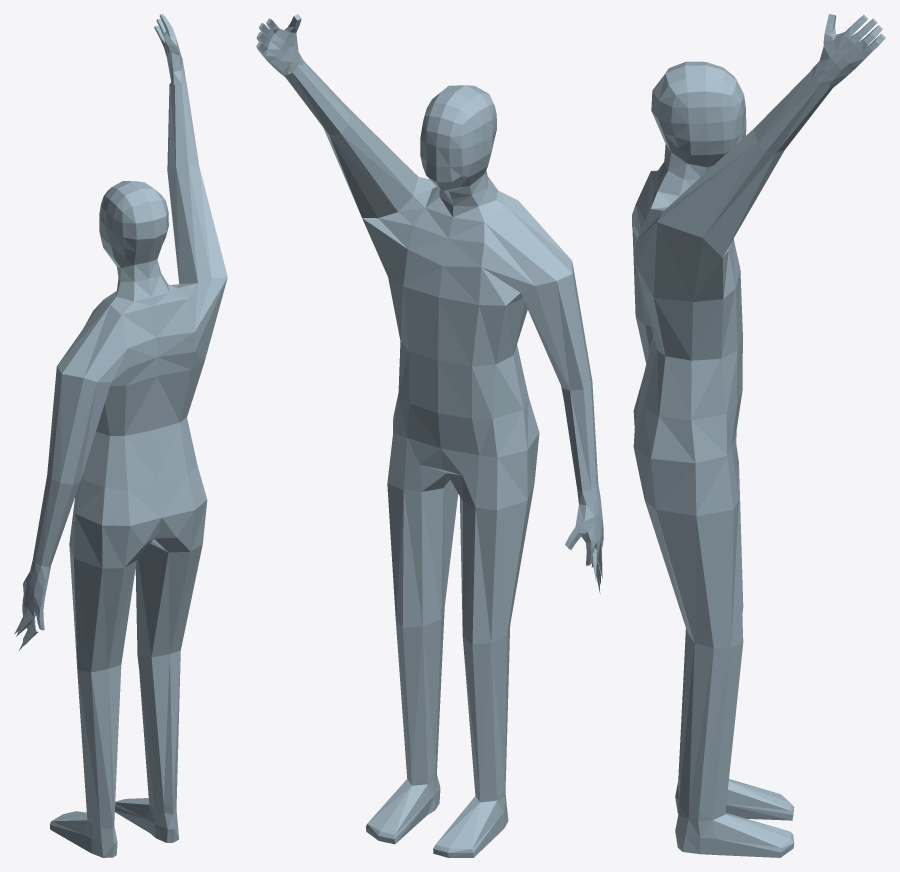
The model's file is human2.obj.
3 views of the same model, side by side, from view 1: azimuth 30°, elevation 25°; view 2: azimuth 150°, elevation 25°; view 3: azimuth 270°, elevation 25° (orthographic). The views are drawn at different scales.
Visible parts, largest first — view 1: BaseHuman.002; view 2: BaseHuman.002; view 3: BaseHuman.002.
Part boxes in pixels (left/top/right/bottom): BaseHuman.002: left=14, top=14, right=227, bottom=857; BaseHuman.002: left=256, top=14, right=603, bottom=857; BaseHuman.002: left=632, top=14, right=885, bottom=857.
Bounding box in the file's own units: 0.7348 × 2.27 × 0.5988.
1 material, 1 textured.
